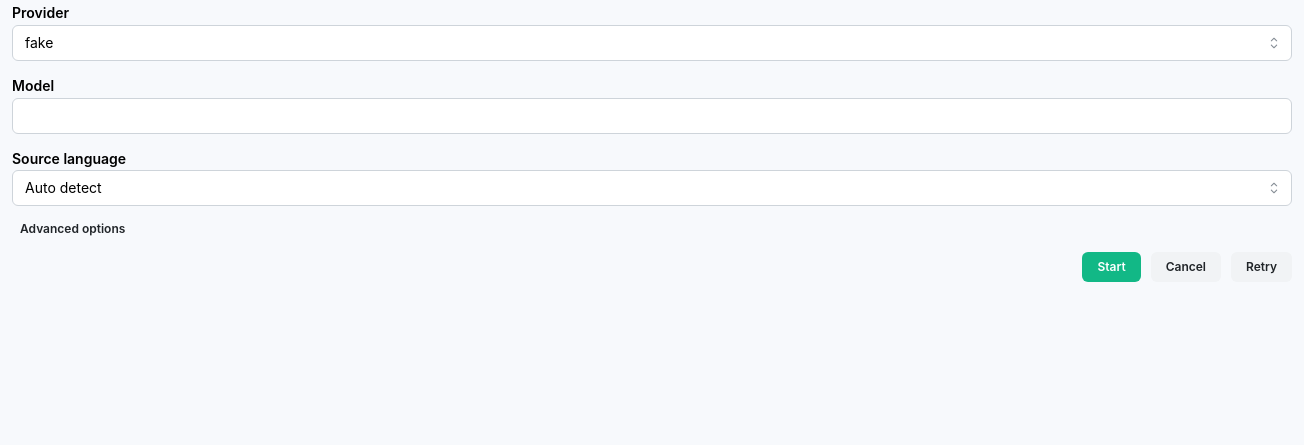
Test: AnalysisInspector › keeps runtime controls behind advanced options
Expected: the dropdown labelled "Device" is not shown
Expected: the dropdown labelled "Compute type" is not shown
Step 1. Click the button "Advanced options" → (73, 229), box [12,218,133,240]
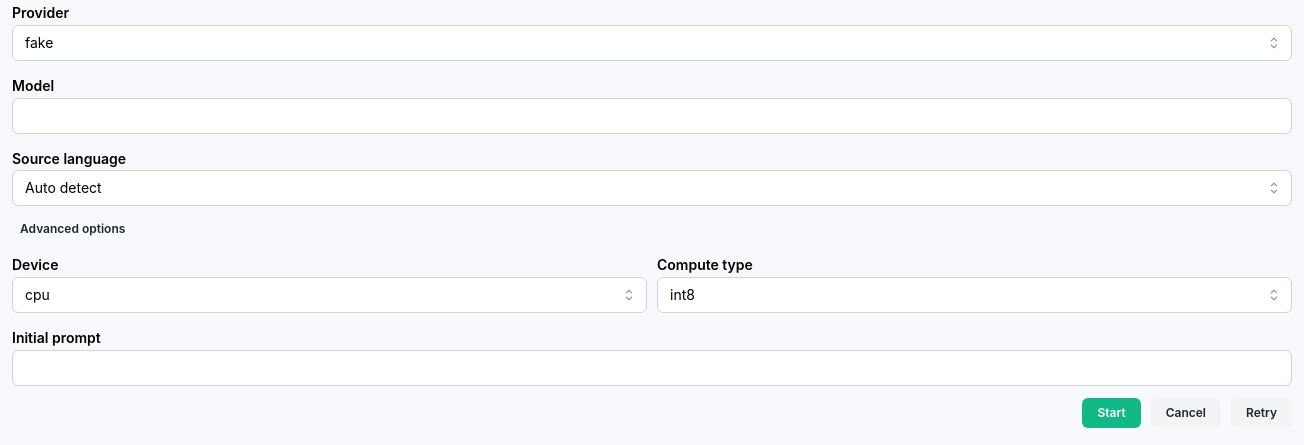
Expected: the dropdown labelled "Device" is shown, [12,277,647,313]
Expected: the dropdown labelled "Compute type" is shown, [657,277,1292,313]
Expected: the field labelled "Initial prompt" is shown, [12,350,1292,386]
